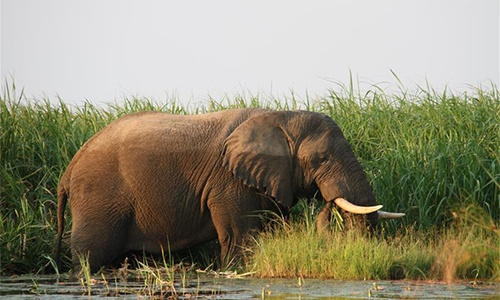elephant: (44, 105, 408, 282)
